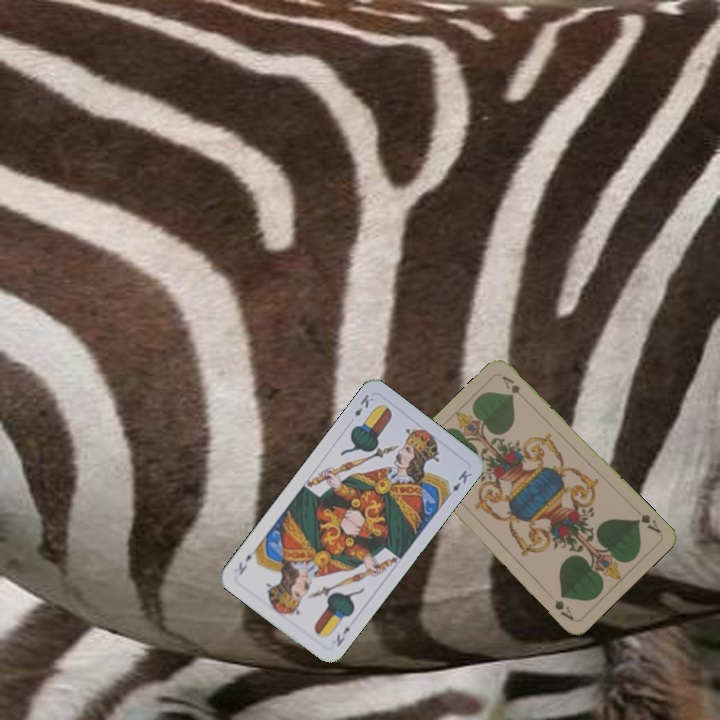EK: (350, 390, 376, 420), (332, 622, 353, 650)
GA: (631, 510, 663, 536)
